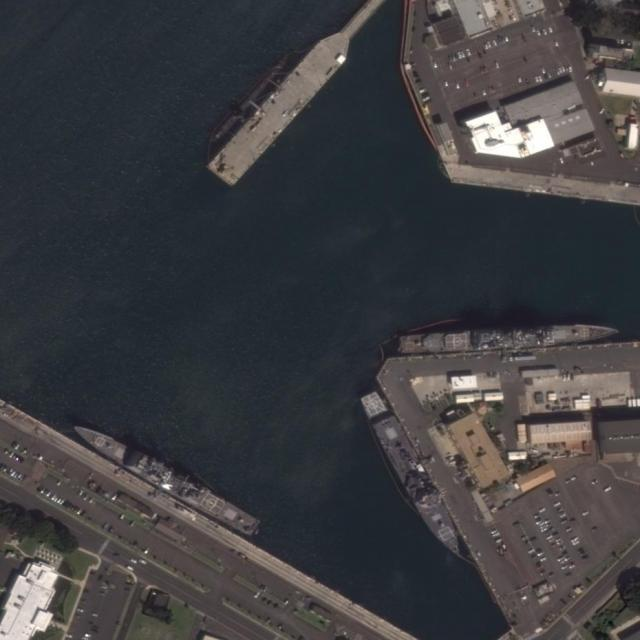Cruiser: (69, 420, 259, 536), (398, 322, 619, 354)
Destroyer: (358, 388, 464, 557)
Submarine: (210, 58, 287, 142)
